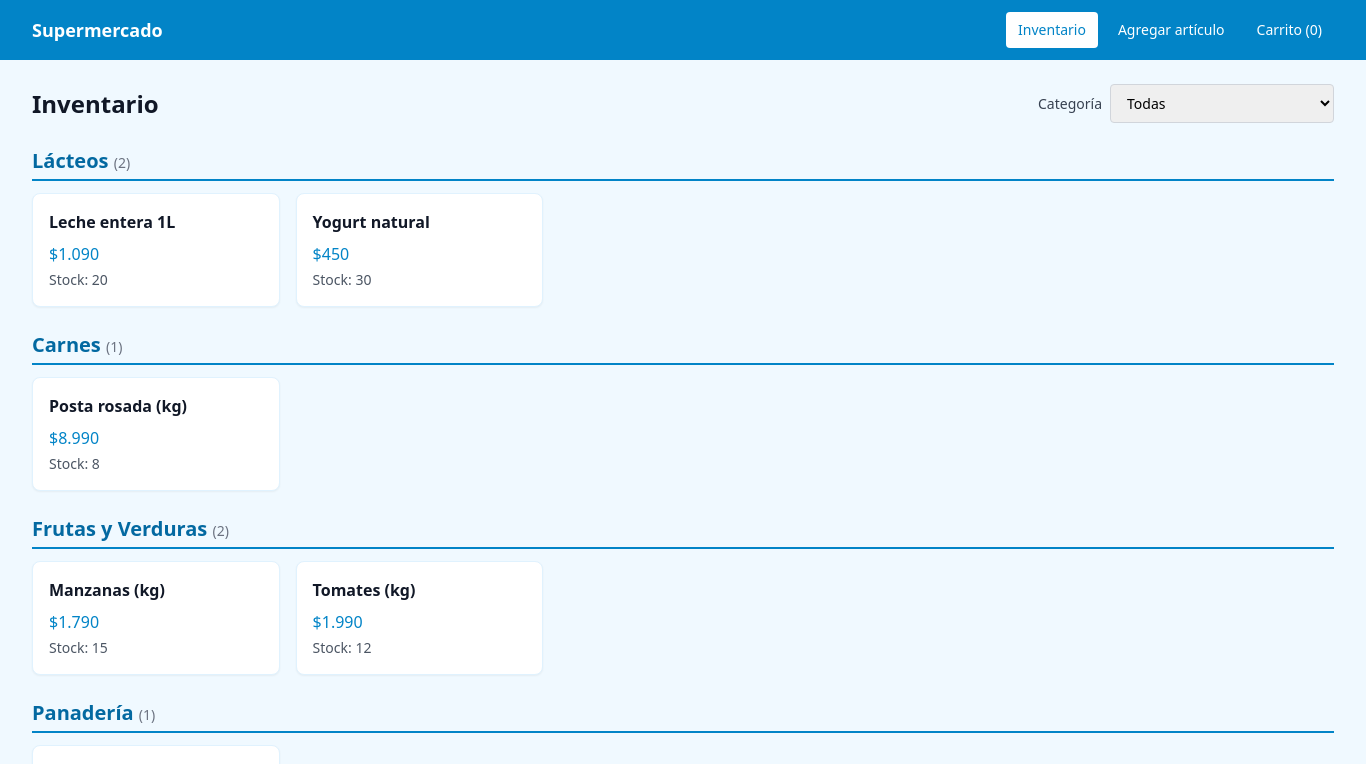
Test: Inventario agrupado y filtro › filtra por categoría sin perder los originales
This screenshot has width=1366, height=764.
Expected: the heading "Leche entera 1L" is shown, [49,211,175,233]
Select "Lácteos" in the dropdown labelled "Categoría" at (1222, 104), box [1110,84,1334,123]
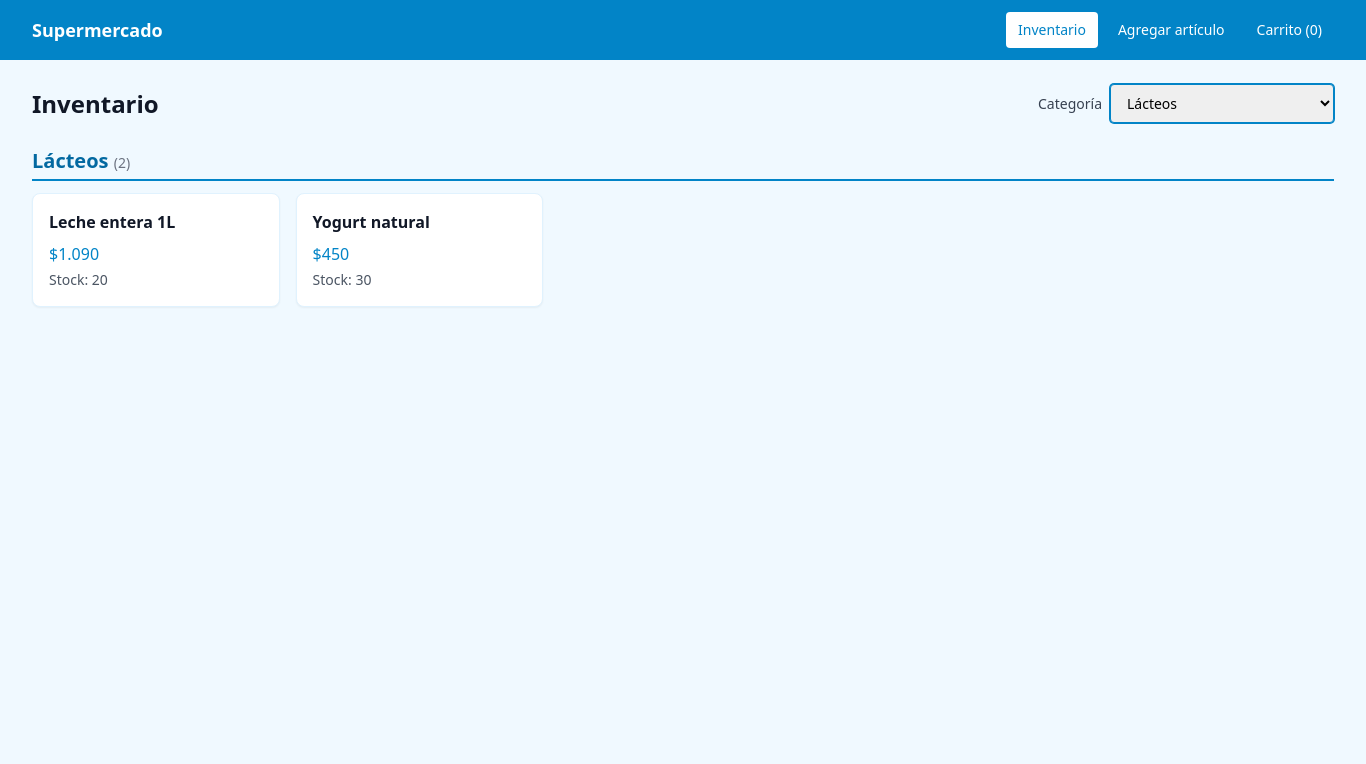
Expected: the heading "Leche entera 1L" is shown, [49,211,175,233]
Select "Todas" in the dropdown labelled "Categoría" at (1222, 104), box [1110,84,1334,123]
(page scrolled)
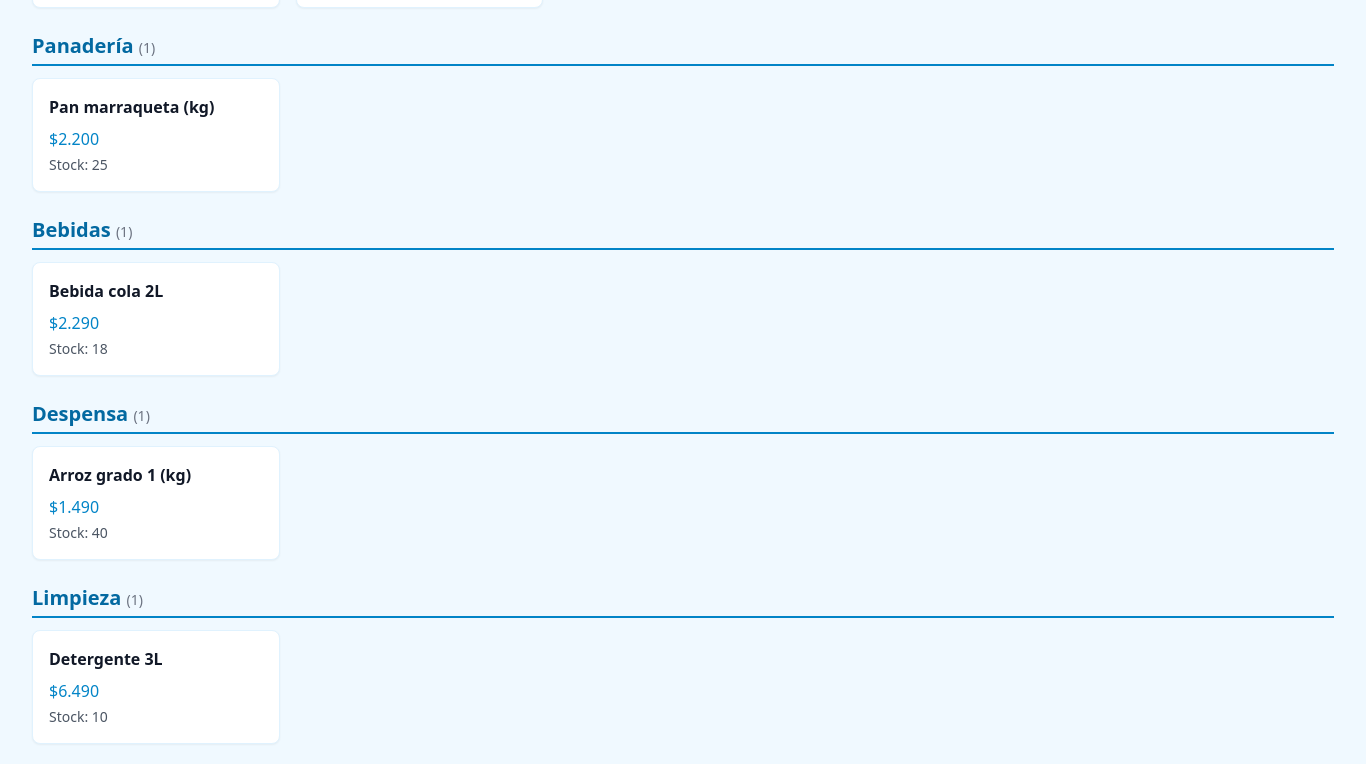
Expected: the heading "Arroz grado 1 (kg)" is shown, [49,464,191,486]
